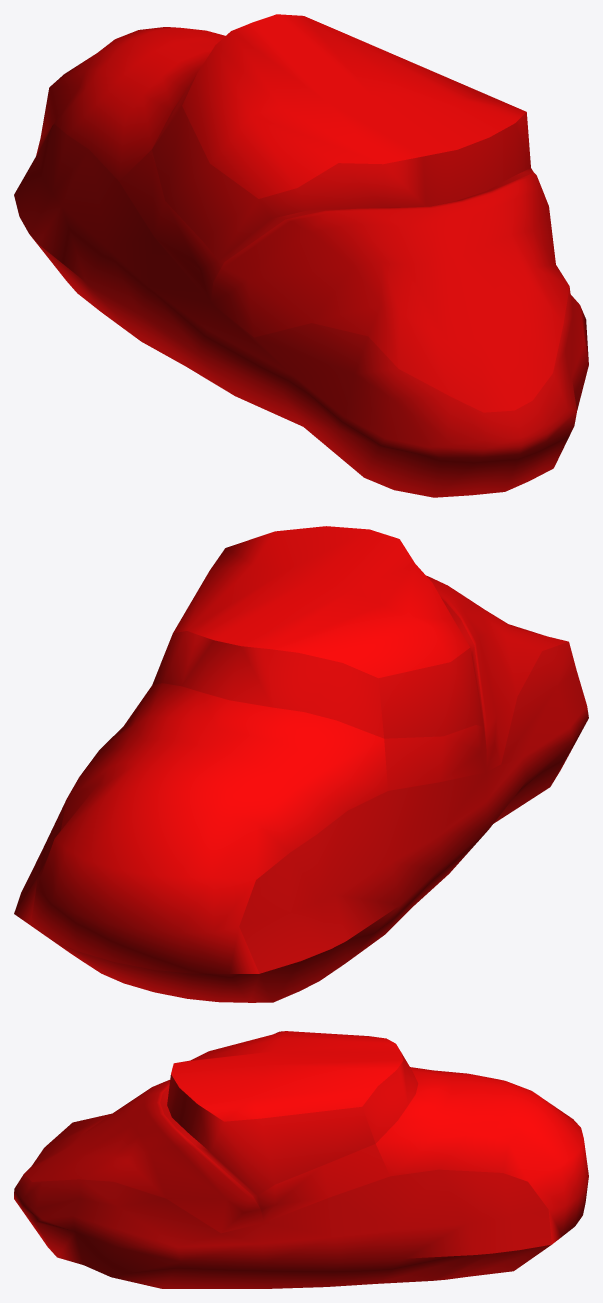
The model's file is geology-rocks-whiterock_v4.fbx.
3 views of the same model, one above another, from view 1: azimuth 30°, elevation 25°; view 2: azimuth 150°, elevation 25°; view 3: azimuth 270°, elevation 25° (orthographic). The views are drawn at different scales.
Visible parts, largest first — view 1: WhiteRock_v4; view 2: WhiteRock_v4; view 3: WhiteRock_v4.
Boxes of the visible parts, x1,y1,x2,y2 form: WhiteRock_v4: (14,14,588,497); WhiteRock_v4: (14,526,588,1002); WhiteRock_v4: (14,1031,588,1288).
Size of the model in its own units: 5.69 by 4.87 by 12.11.
